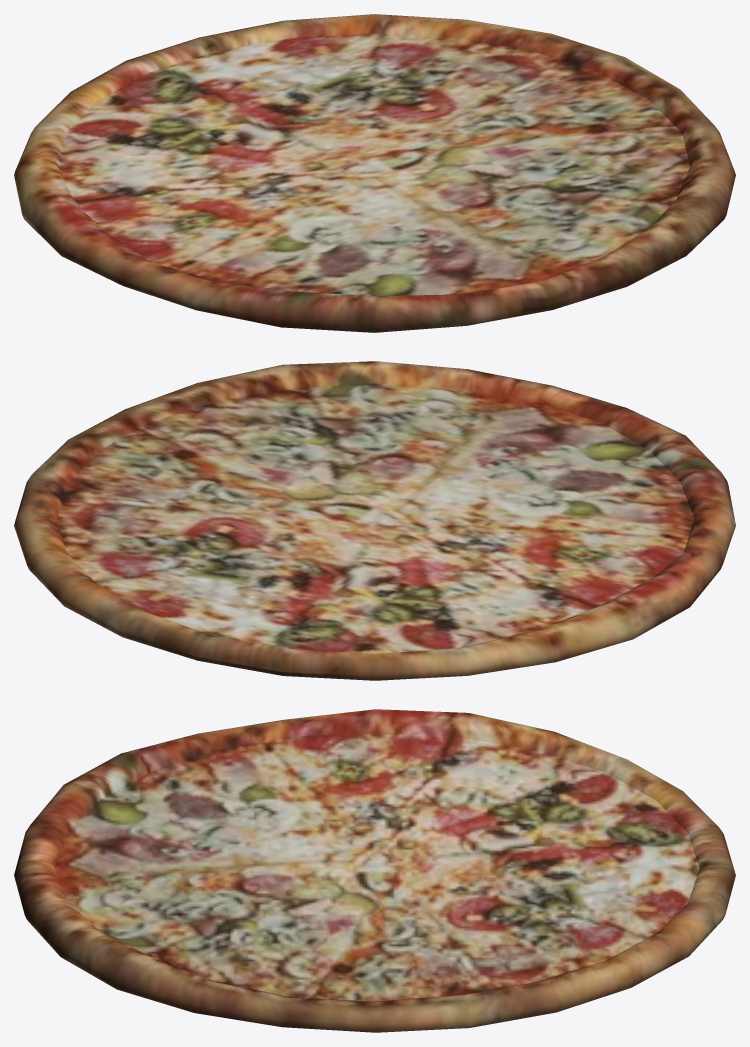
File: Pizza.glb
The picture shows the model from 3 angles, top to bottom: view 1: azimuth 30°, elevation 25°; view 2: azimuth 150°, elevation 25°; view 3: azimuth 270°, elevation 25°; orthographic projection.
Visible parts, largest first — view 1: Pizza; view 2: Pizza; view 3: Pizza.
Boxes of the visible parts, x1,y1,x2,y2 form: Pizza: (14,14,735,332); Pizza: (14,361,735,680); Pizza: (14,709,735,1032).
Bounding box in the file's own units: 0.3045 × 0.0125 × 0.3009.
Materials: 1 (1 with a texture image).
